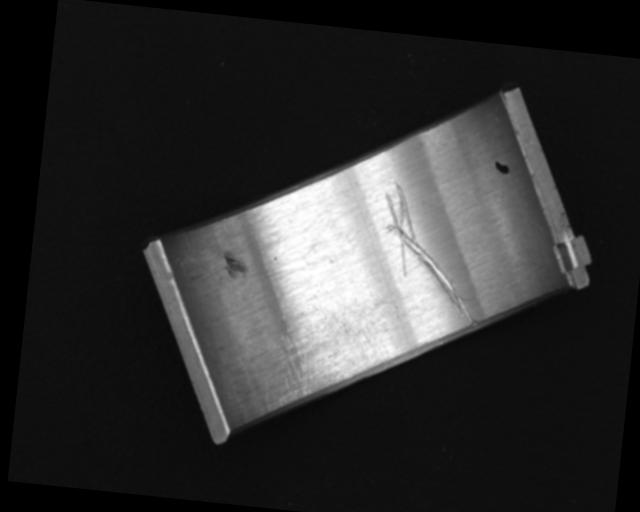blot: (493, 158, 512, 175)
bruise: (219, 251, 248, 279)
nick: (369, 178, 490, 324)
scratch: (260, 308, 379, 418)
